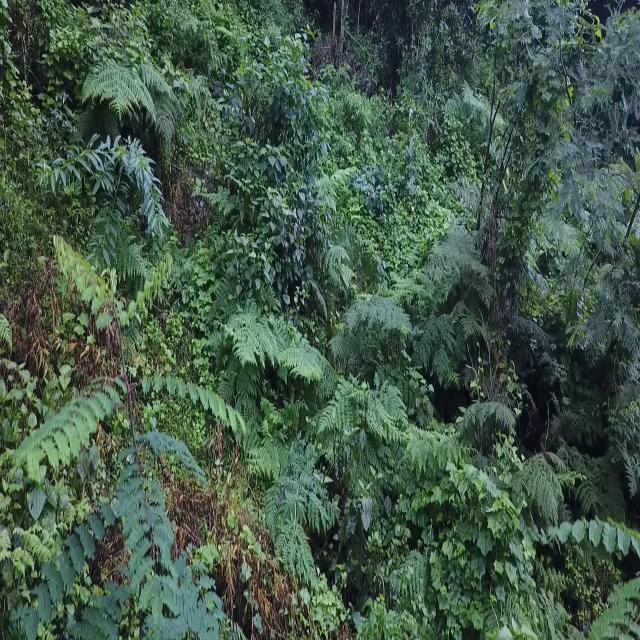Mysore-Thorn-Weed: (3, 249, 247, 640), (540, 506, 640, 640)
